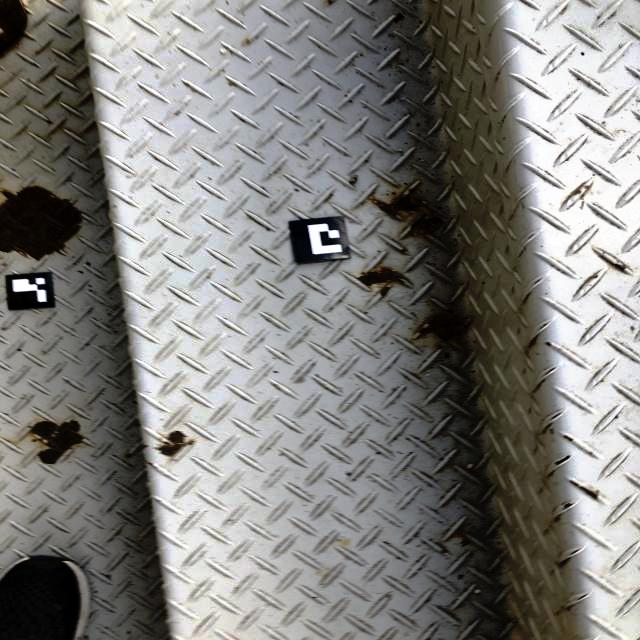Corrosion: (0, 186, 83, 262), (370, 187, 445, 239), (27, 420, 87, 465), (416, 307, 473, 346), (354, 266, 407, 297), (154, 430, 197, 458), (570, 480, 601, 501), (553, 454, 570, 466), (610, 262, 628, 271), (587, 272, 600, 283), (563, 502, 576, 510), (563, 435, 575, 442), (571, 190, 582, 197), (243, 39, 252, 44), (142, 444, 148, 451), (326, 0, 334, 5), (544, 342, 552, 347), (127, 454, 133, 458), (584, 185, 590, 189), (439, 345, 444, 349)
